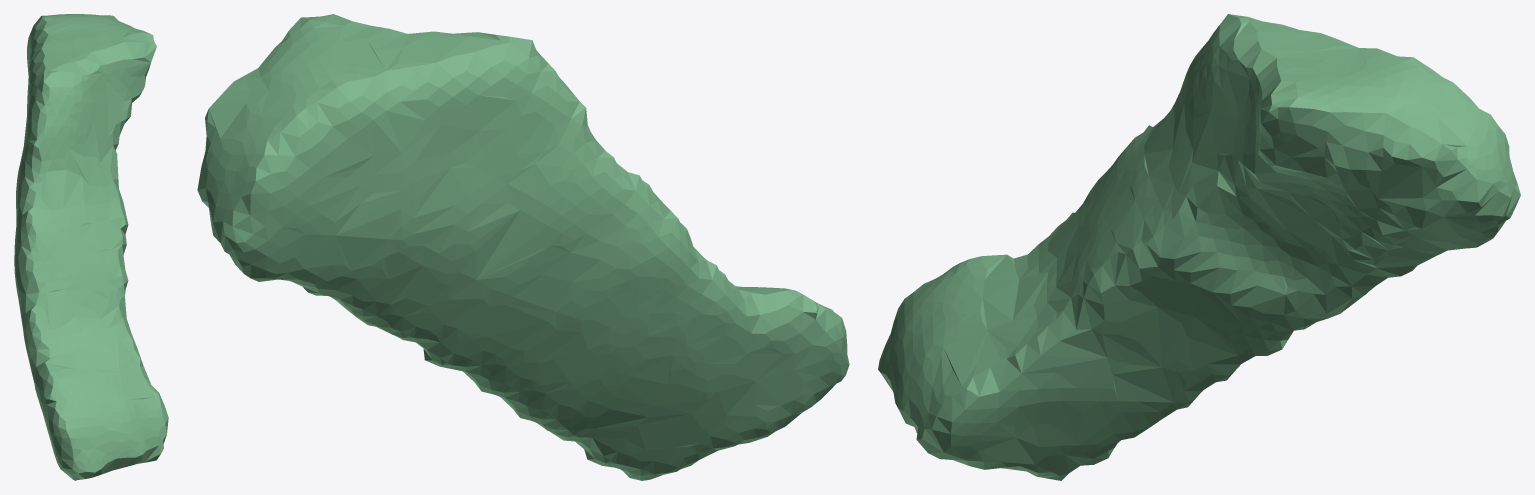
Rendered from Model_121_RH__Retroinsular_area_(ReI).obj.
The picture shows the model from 3 angles, left to right: view 1: azimuth 30°, elevation 25°; view 2: azimuth 150°, elevation 25°; view 3: azimuth 270°, elevation 25°; orthographic projection. The views are drawn at different scales.
Bounding box in the file's own units: 2.06 × 2.73 × 3.33.
